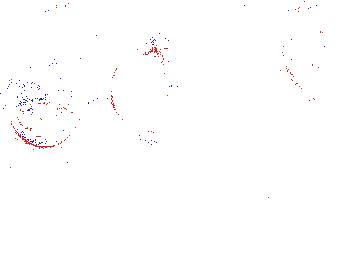moon jellyfish: (281, 1, 346, 105), (108, 45, 172, 143), (81, 4, 181, 56), (11, 97, 81, 149)
